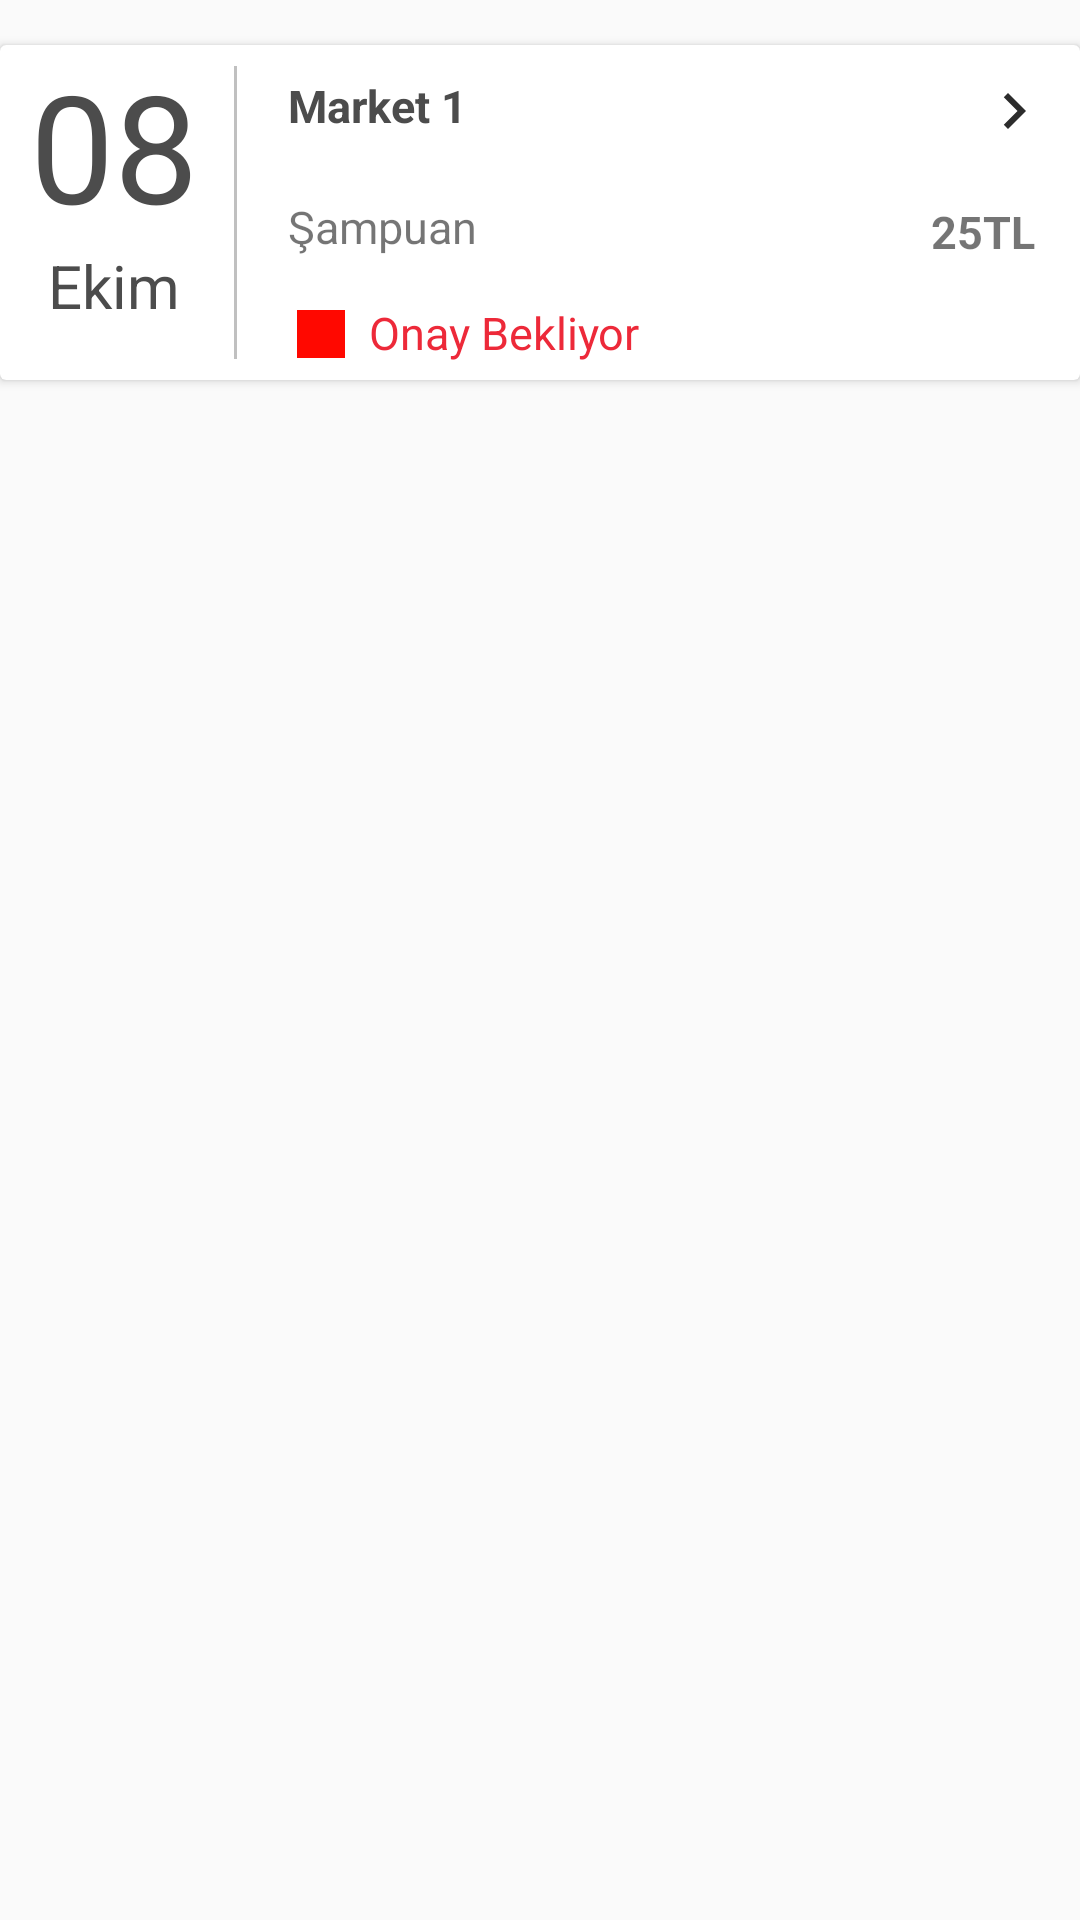

Where icons sit on this 1080 x 1920 app screen, as detection(x1, y1, x2, y2):
chevron right: detection(1004, 93, 1026, 129)
